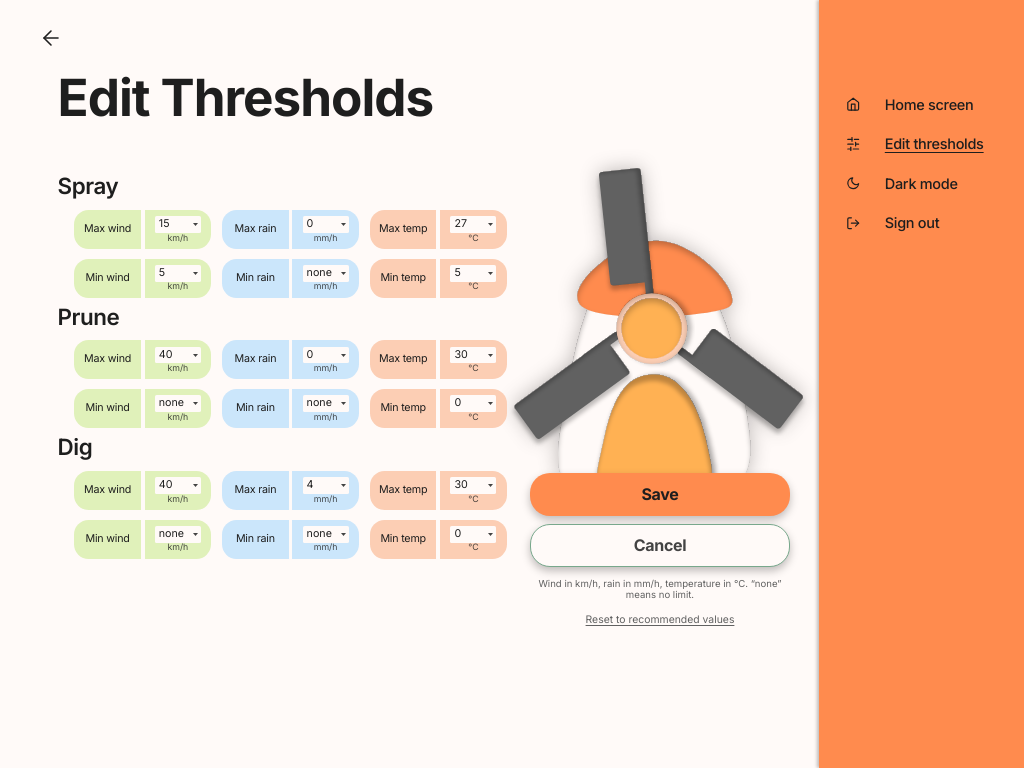
Test case: Edit thresholds › blocks saving when a minimum is higher than its maximum
Select "20" in the dropdown named "Min wind for Spray, in km/h" at (178,273), box x1=155 y1=265 x2=201 y2=282
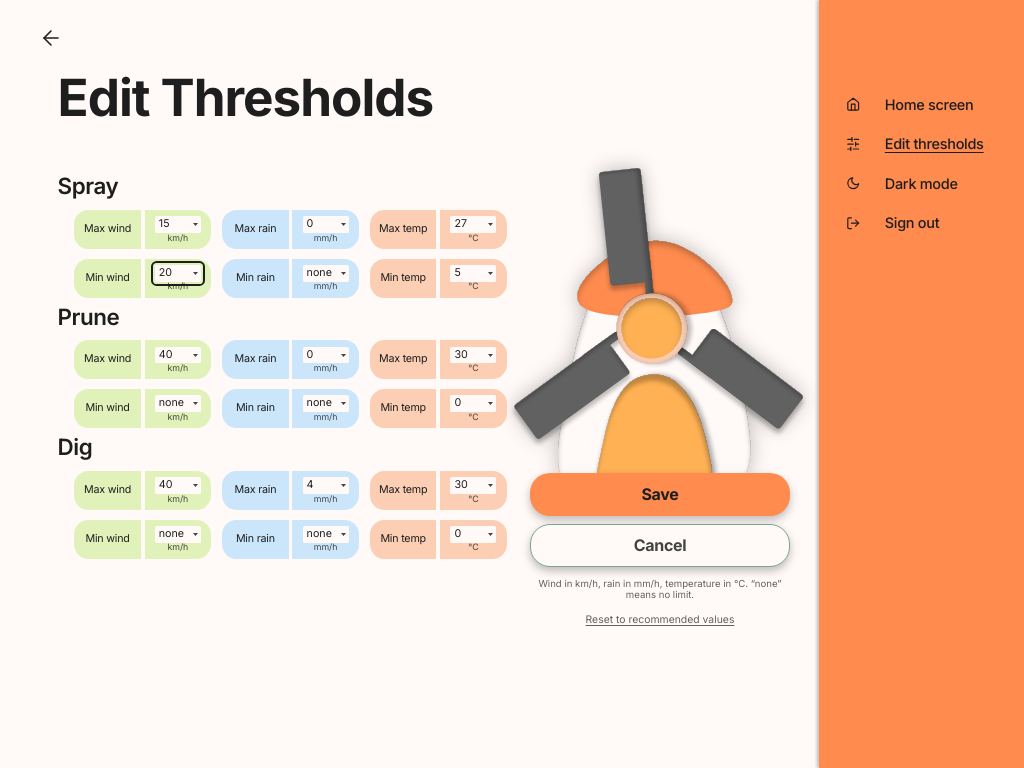
Click the button "Save" at (660,494), box x1=530 y1=473 x2=790 y2=516
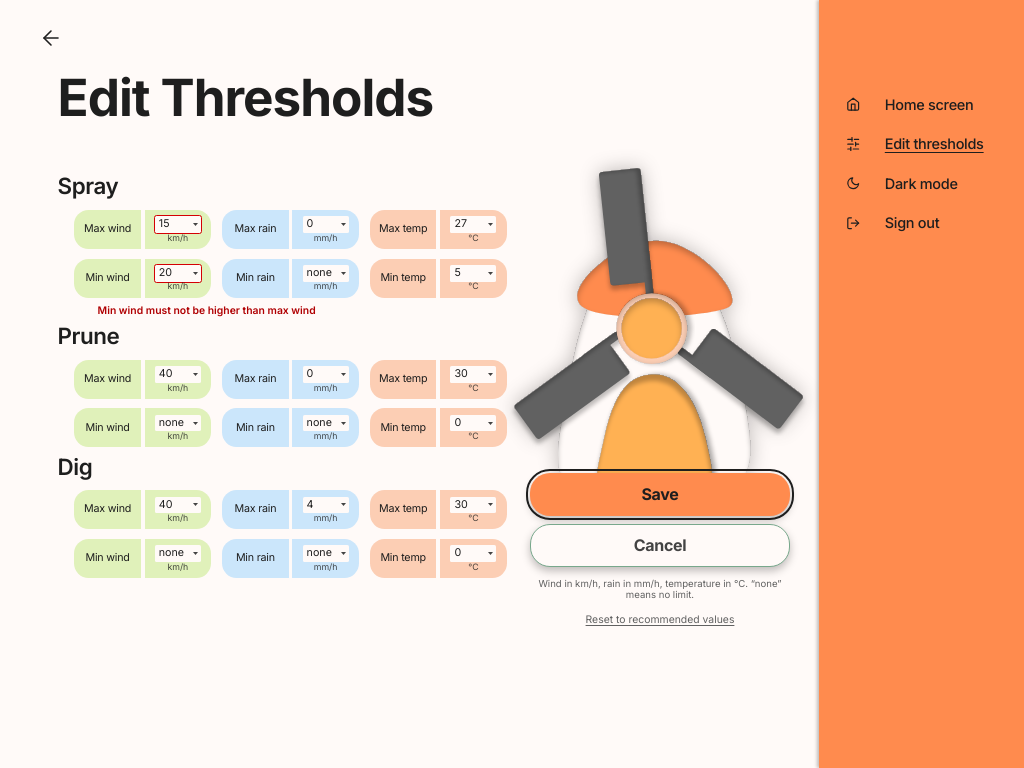
Check: the message reads "Min wind must not be higher than max wind", box x1=98 y1=304 x2=316 y2=317
